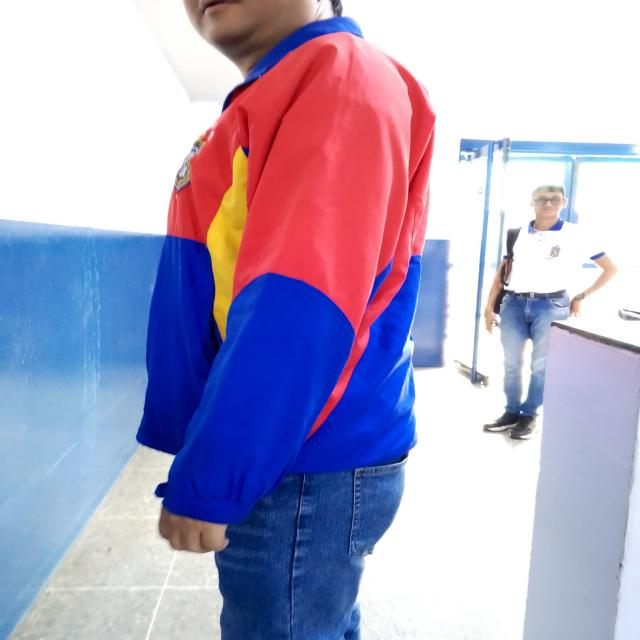chaqueta_unefa: (134, 16, 438, 526)
uniforme_superior: (500, 218, 607, 294)
